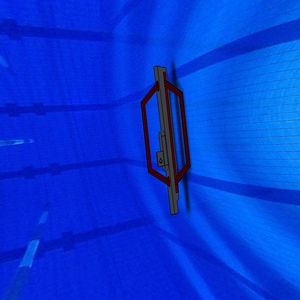submarine: (138, 63, 196, 219)
